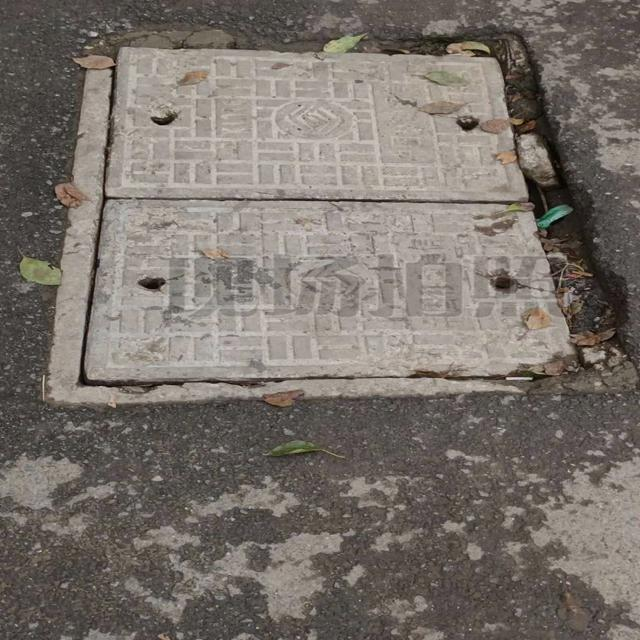circle: (52, 30, 640, 403)
